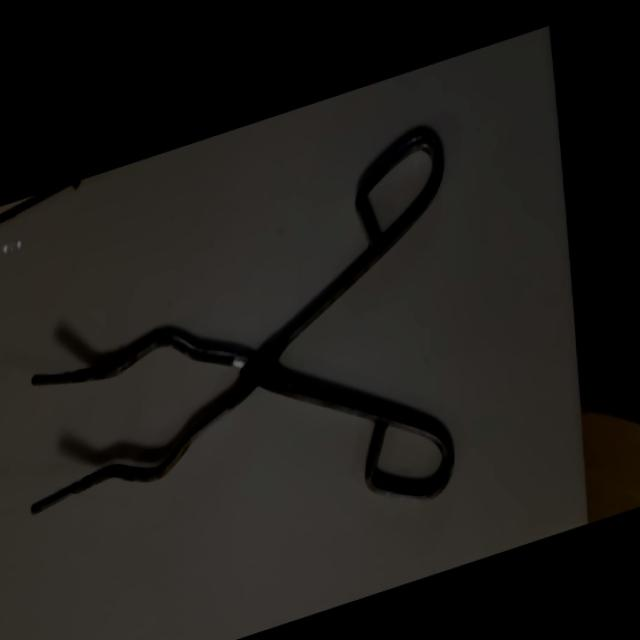Tongue: (5, 107, 479, 640)
